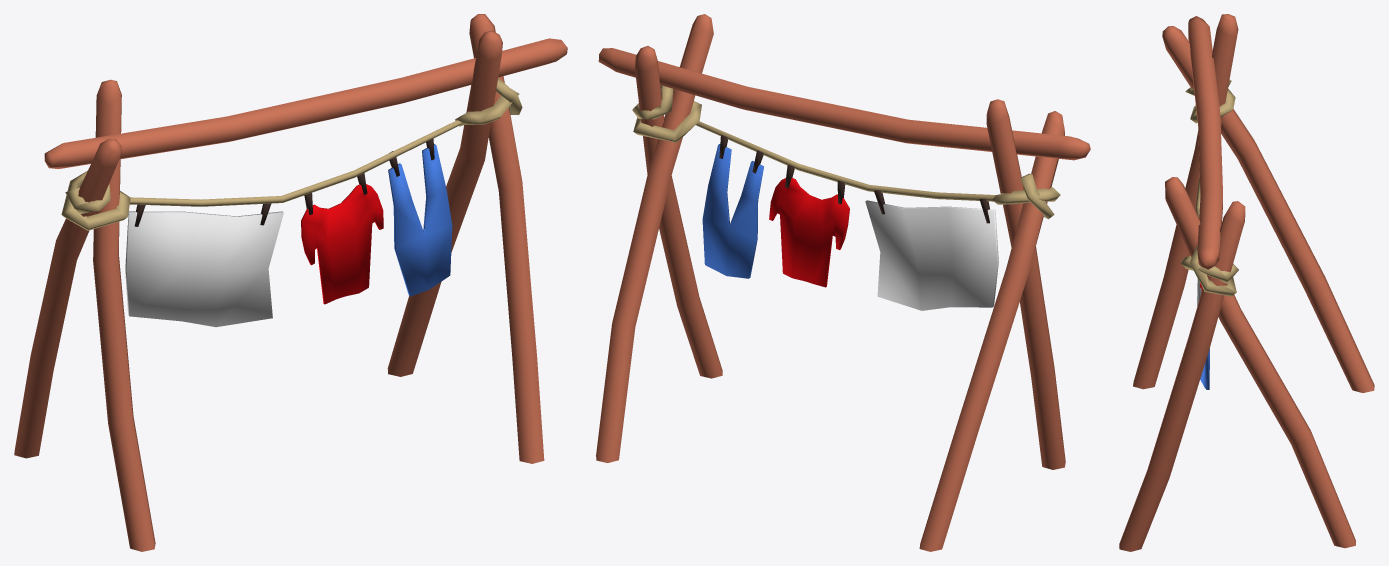
File: Hanger_clothes.fbx
3 renders of one model, left to right at view 1: azimuth 30°, elevation 25°; view 2: azimuth 150°, elevation 25°; view 3: azimuth 270°, elevation 25°, orthographic. The views are drawn at different scales.
Visible parts, largest first — view 1: Handler_Clothes, Clothes01, Clothes02, Clothes03; view 2: Handler_Clothes, Clothes01, Clothes02, Clothes03; view 3: Handler_Clothes.
Part boxes in pixels (x1=…): Handler_Clothes: x1=14, y1=14, x2=567, y2=551; Clothes01: x1=125, y1=211, x2=283, y2=327; Clothes02: x1=301, y1=184, x2=383, y2=304; Clothes03: x1=388, y1=144, x2=452, y2=296; Handler_Clothes: x1=596, y1=14, x2=1090, y2=551; Clothes01: x1=865, y1=200, x2=998, y2=310; Clothes02: x1=769, y1=178, x2=849, y2=287; Clothes03: x1=702, y1=144, x2=763, y2=278; Handler_Clothes: x1=1119, y1=14, x2=1374, y2=551.
Bounding box in the file's own units: 316 × 245 × 151.
